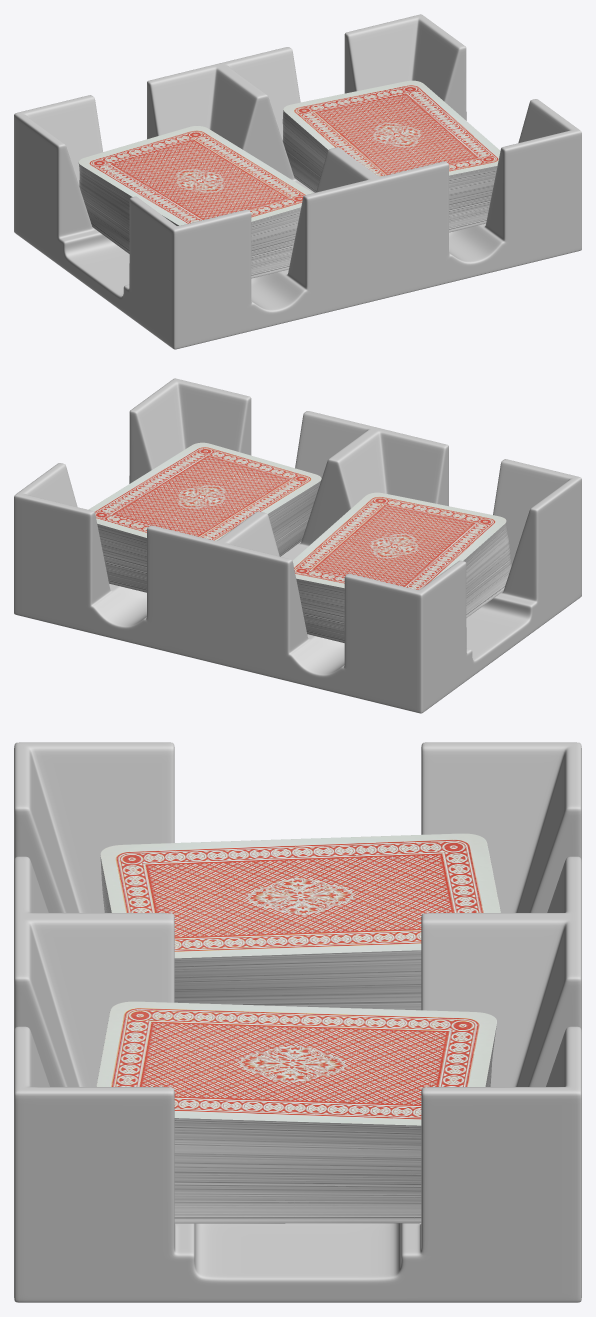
3 renders of one model, top to bottom at view 1: azimuth 30°, elevation 25°; view 2: azimuth 150°, elevation 25°; view 3: azimuth 270°, elevation 25°, orthographic. The views are drawn at different scales.
Visible parts, largest first — view 1: Tray, Card_deck, Card_deck_1; view 2: Tray, Card_deck, Card_deck_1; view 3: Tray, Card_deck_1, Card_deck.
Part boxes in pixels (bbox=[...]): Tray: bbox=[14, 14, 581, 349]; Card_deck: bbox=[78, 125, 313, 278]; Card_deck_1: bbox=[282, 80, 500, 232]; Tray: bbox=[14, 378, 581, 713]; Card_deck: bbox=[292, 492, 511, 642]; Card_deck_1: bbox=[88, 442, 321, 592]; Tray: bbox=[14, 742, 581, 1302]; Card_deck_1: bbox=[96, 1001, 496, 1223]; Card_deck: bbox=[100, 833, 500, 1010].
Bounding box in the file's own units: 1.05 × 0.3187 × 0.7176.
4 materials, 1 textured.
